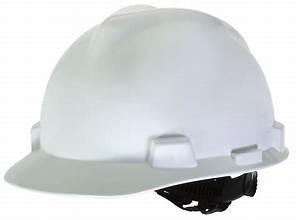Helmet: (22, 13, 261, 199)
